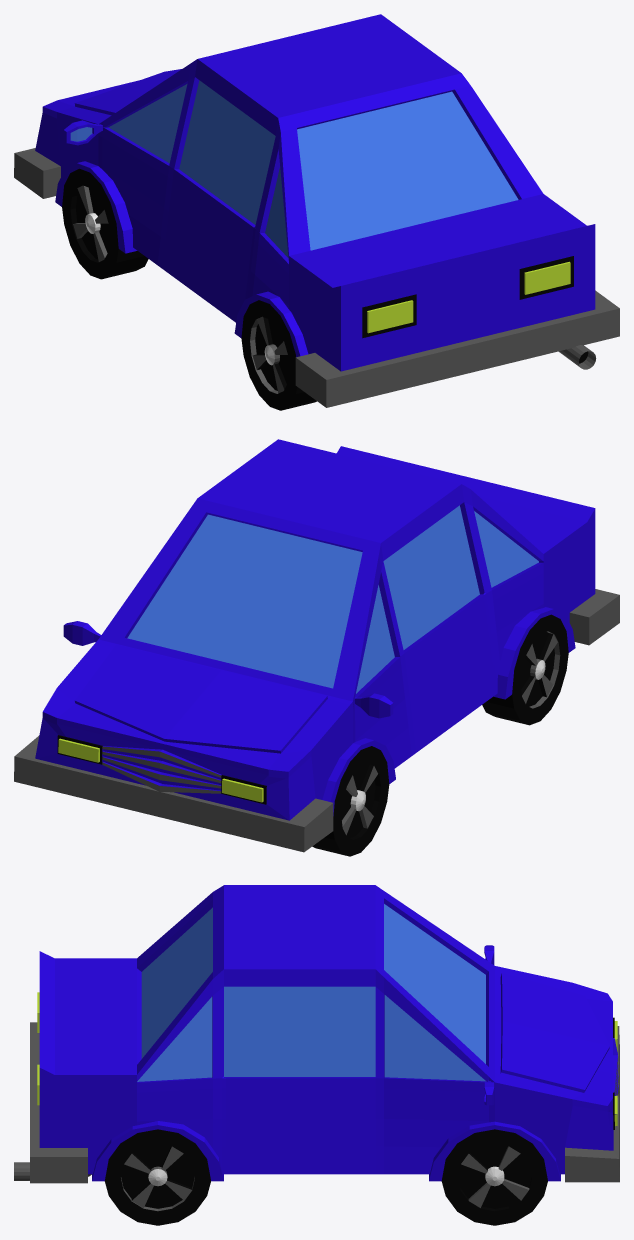
Rendered from car_3.fbx.
3 renders of one model, top to bottom at view 1: azimuth 30°, elevation 25°; view 2: azimuth 150°, elevation 25°; view 3: azimuth 270°, elevation 25°, orthographic. The views are drawn at different scales.
Parts seen in each view (by area): view 1: Car2; view 2: Car2; view 3: Car2.
Part boxes in pixels (bbox=[...]): Car2: bbox=[14, 14, 619, 410]; Car2: bbox=[14, 439, 619, 856]; Car2: bbox=[14, 885, 619, 1225].
Bounding box in the file's own units: 73.11 × 53.96 × 125.
